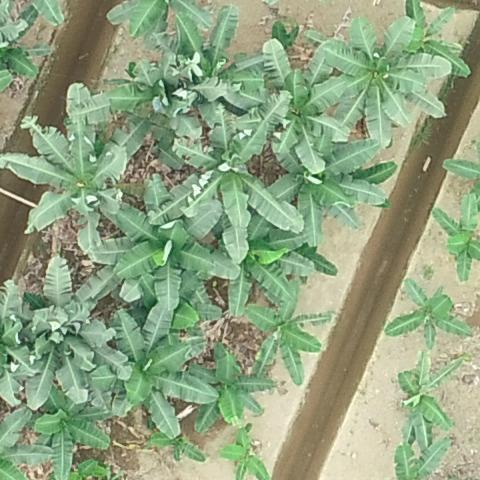Banana-plant: (2, 85, 140, 252), (175, 93, 300, 231), (97, 180, 234, 304), (320, 18, 443, 137), (102, 309, 217, 433), (267, 141, 397, 237), (25, 262, 115, 398), (252, 37, 347, 164), (174, 6, 265, 105), (216, 225, 315, 313), (115, 67, 197, 160), (188, 349, 277, 427), (248, 289, 329, 370), (385, 278, 472, 349), (39, 397, 115, 473), (404, 0, 473, 81), (392, 354, 457, 427), (0, 283, 38, 407), (435, 199, 480, 283), (108, 0, 215, 35), (222, 427, 273, 480), (158, 429, 201, 463)
